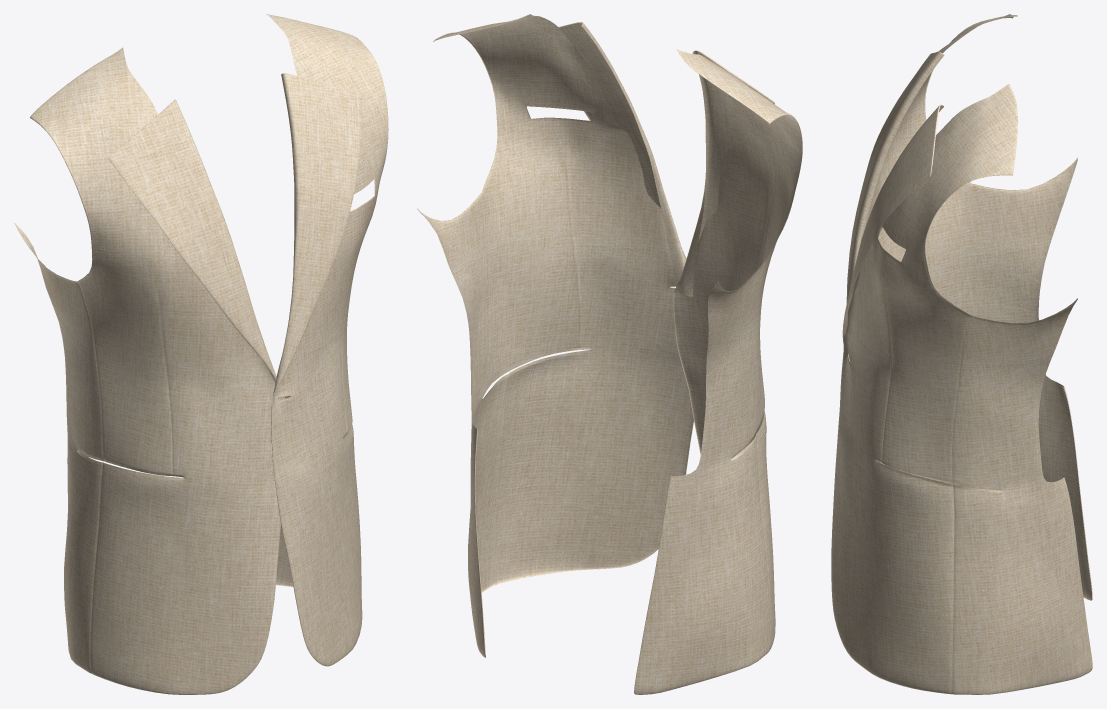
Rendered from notch_single_button_wide.glb.
3 renders of one model, left to right at view 1: azimuth 30°, elevation 25°; view 2: azimuth 150°, elevation 25°; view 3: azimuth 270°, elevation 25°, orthographic. The views are drawn at different scales.
Parts seen in each view (by area): view 1: notch_single_button_wide1; view 2: notch_single_button_wide1; view 3: notch_single_button_wide1.
Boxes of the visible parts, <box> form: notch_single_button_wide1: <box>14,14,388,694</box>; notch_single_button_wide1: <box>417,14,802,694</box>; notch_single_button_wide1: <box>831,14,1092,694</box>.
Bounding box in the file's own units: 0.0585 × 0.102 × 0.0411.
2 materials, 1 textured.
